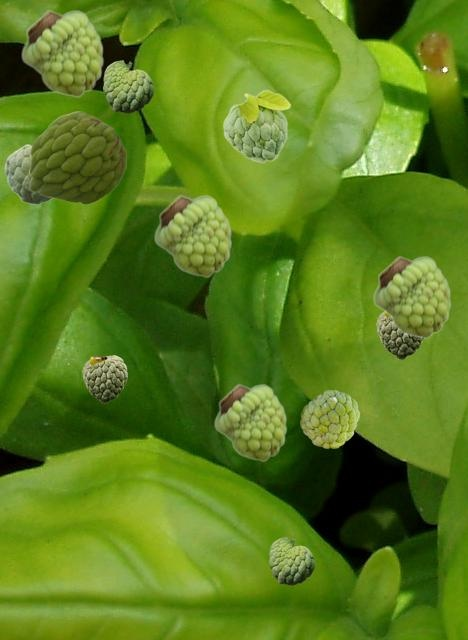atis: (29, 111, 125, 203), (21, 9, 103, 97), (373, 255, 450, 338), (154, 194, 231, 277), (214, 383, 286, 461), (222, 89, 290, 162), (300, 390, 358, 447), (4, 144, 52, 203), (103, 60, 152, 112), (376, 312, 423, 358), (269, 537, 313, 584), (82, 355, 126, 402)
